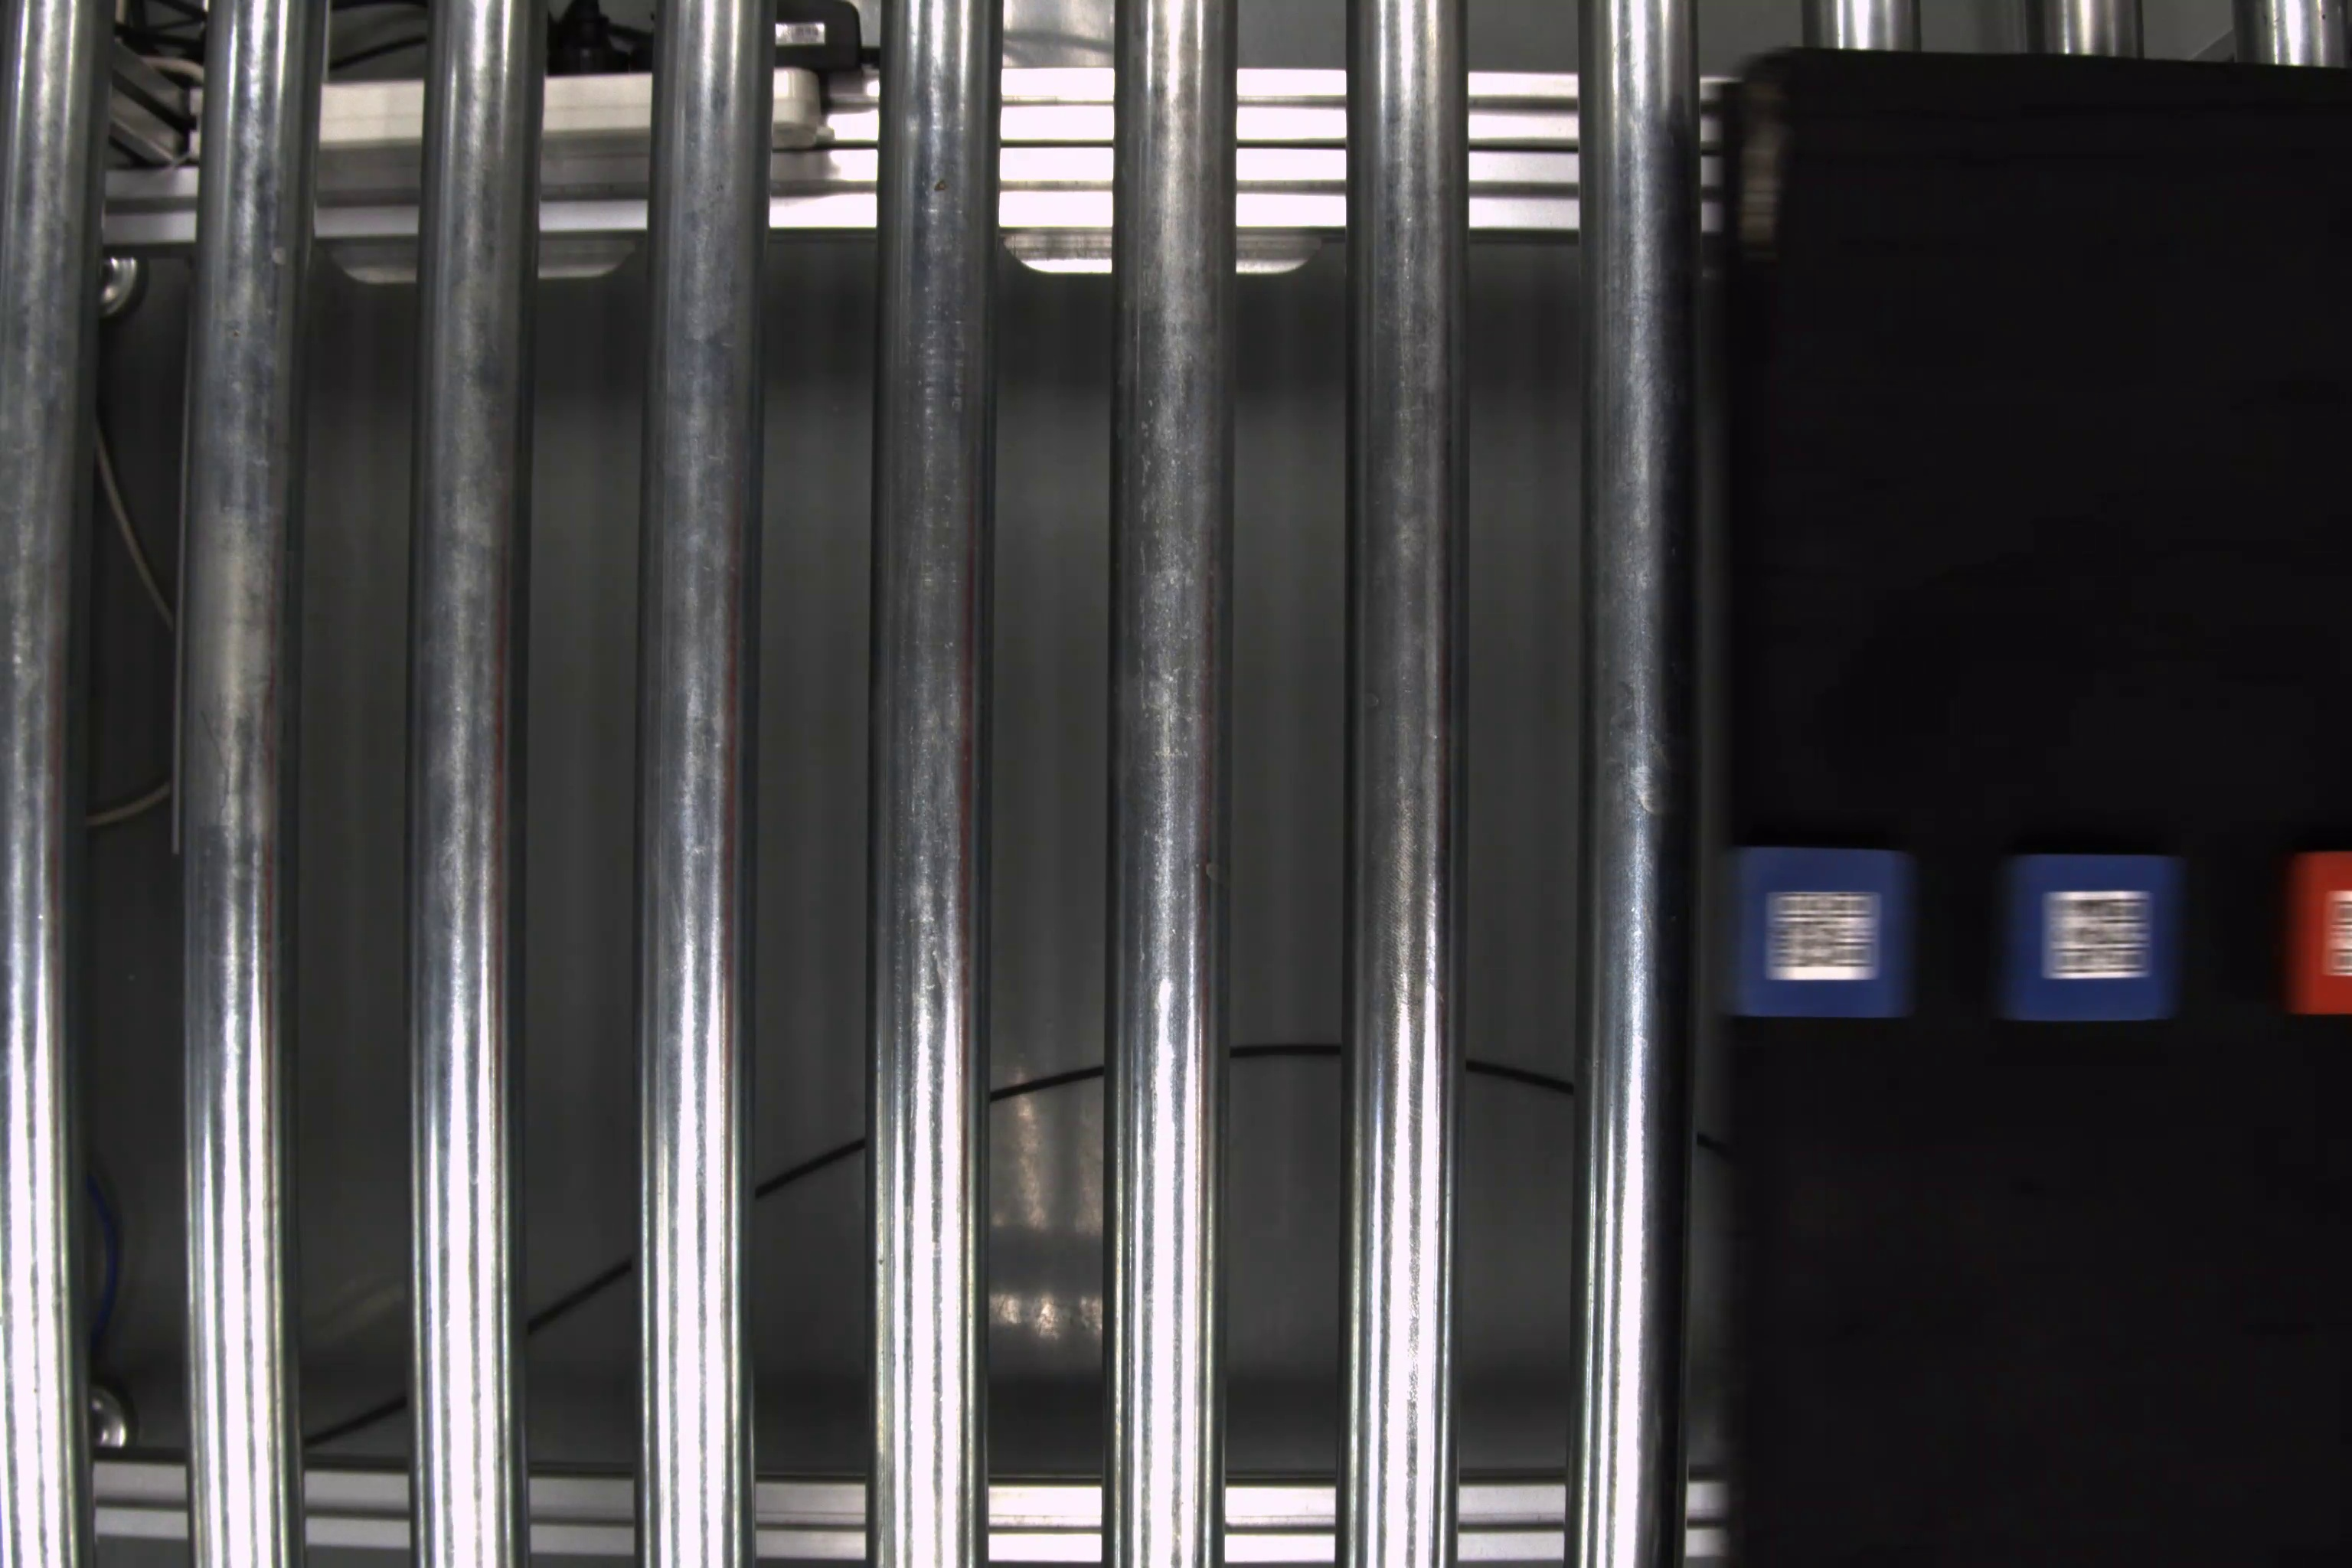wood: (1725, 843, 1916, 1022), (1998, 843, 2189, 1022), (2282, 843, 2352, 1013)
